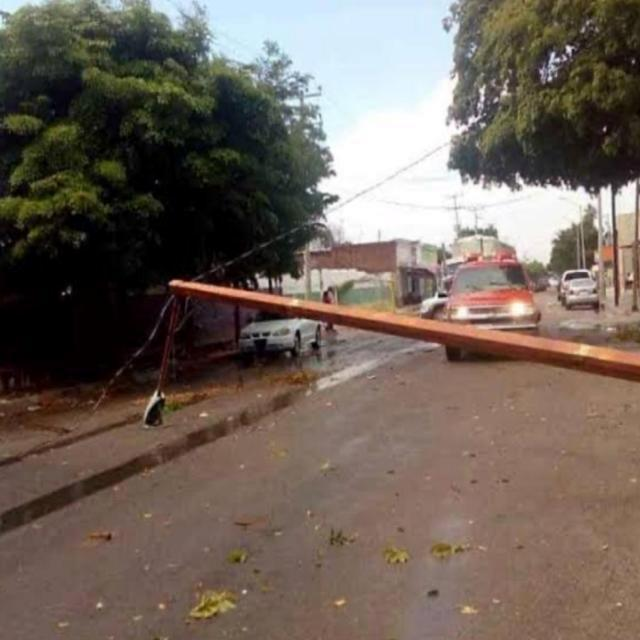Broken Pole: (138, 263, 640, 431)
